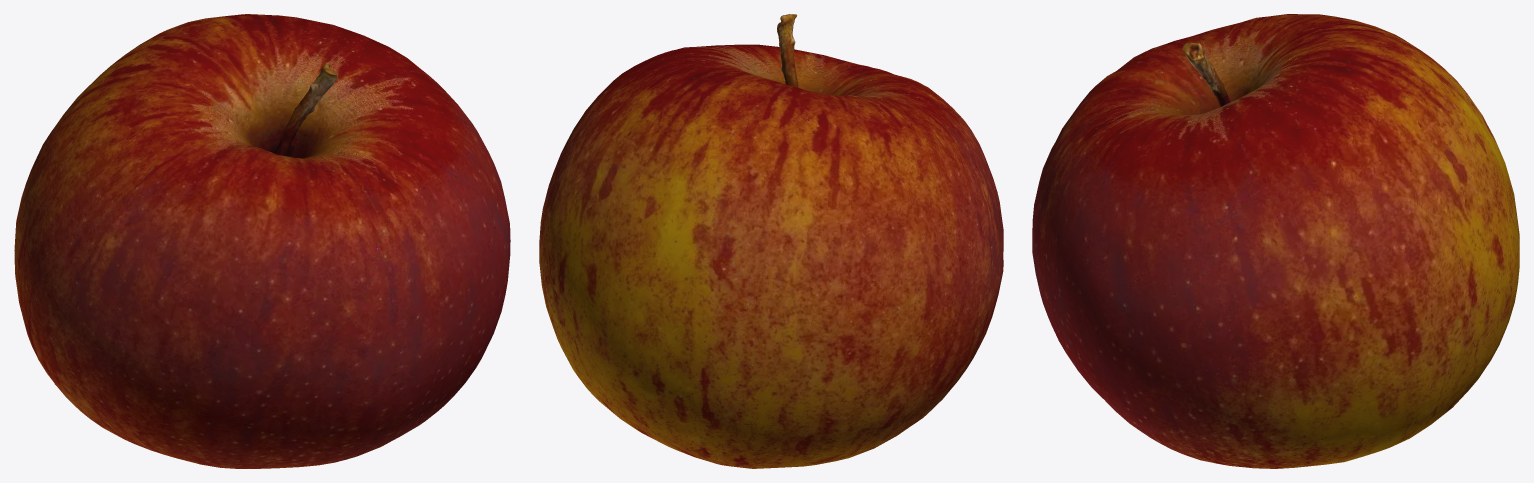
File: food_apple_01.glb
3 views of the same model, side by side, from view 1: azimuth 30°, elevation 25°; view 2: azimuth 150°, elevation 25°; view 3: azimuth 270°, elevation 25° (orthographic). The views are drawn at different scales.
Visible parts, largest first — view 1: food_apple_01; view 2: food_apple_01; view 3: food_apple_01.
Part boxes in pixels (x1=…): food_apple_01: x1=14, y1=14, x2=510, y2=468; food_apple_01: x1=539, y1=14, x2=1003, y2=468; food_apple_01: x1=1032, y1=14, x2=1519, y2=468.
Size of the model in its own units: 0.0976 by 0.0854 by 0.0959.
Materials: 1 (1 with a texture image).
